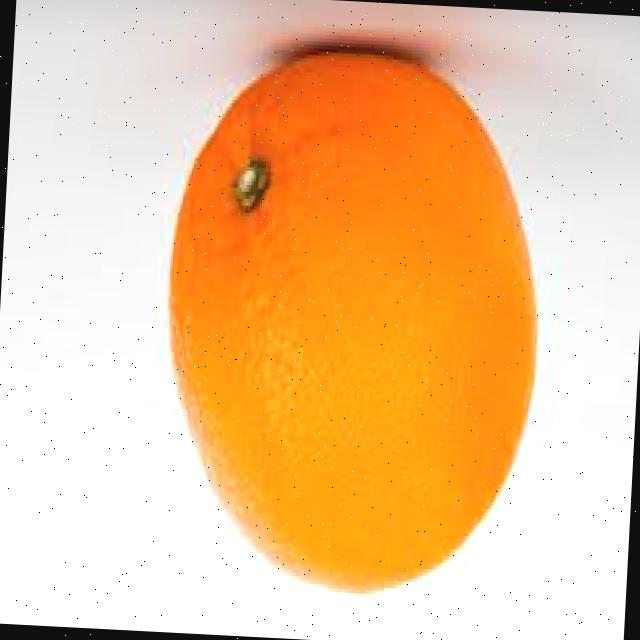Ripe: (148, 36, 561, 613)
